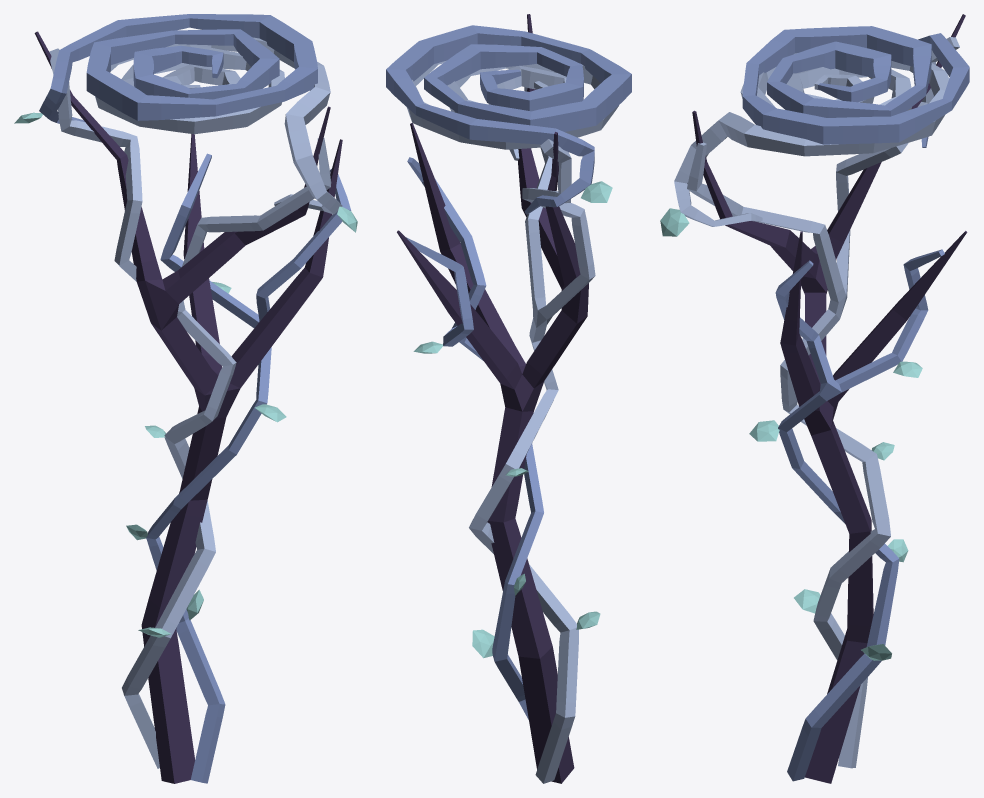
File: vinetree1.fbx
3 renders of one model, left to right at view 1: azimuth 30°, elevation 25°; view 2: azimuth 150°, elevation 25°; view 3: azimuth 270°, elevation 25°, orthographic. The views are drawn at different scales.
Visible parts, largest first — view 1: Cube, Cube.003, Cube.002, Cube.001, Cube.004; view 2: Cube, Cube.003, Cube.002, Cube.001, Cube.004, Icosphere.007, Icosphere; view 3: Cube, Cube.003, Cube.002, Cube.001, Cube.004, Icosphere.006.
Part boxes in pixels (box(x1,y1,x2,y2)): Cube: box(34, 31, 342, 783); Cube.003: box(39, 14, 317, 123); Cube.002: box(49, 48, 331, 768); Cube.001: box(146, 153, 351, 783); Cube.004: box(95, 37, 342, 214); Cube: box(397, 14, 588, 783); Cube.003: box(386, 25, 631, 214); Cube.002: box(469, 87, 595, 783); Cube.001: box(406, 157, 543, 719); Cube.004: box(406, 60, 618, 160); Icosphere.007: box(581, 181, 612, 202); Icosphere: box(472, 629, 494, 658); Cube: box(692, 14, 967, 783); Cube.003: box(742, 26, 969, 147); Cube.002: box(687, 37, 959, 768); Cube.001: box(775, 249, 944, 781); Cube.004: box(674, 53, 949, 226); Icosphere.006: box(660, 208, 689, 236).
Bounding box in the file's own units: 168 × 437 × 168.
